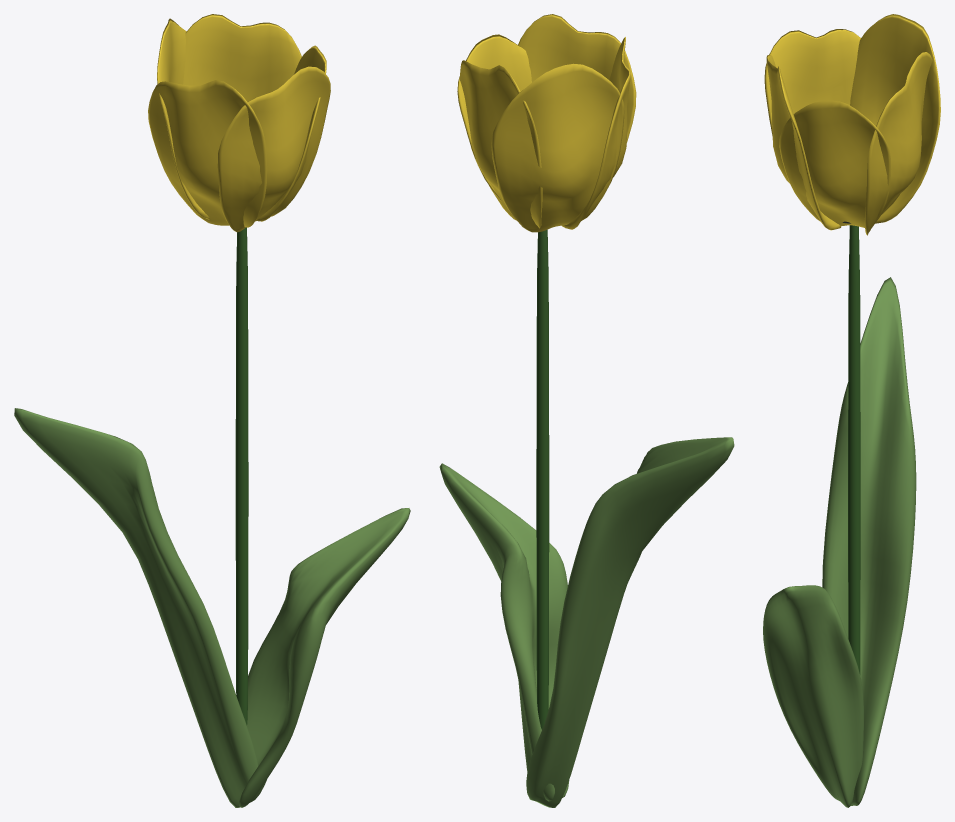
Rendered from flower8.fbx.
3 views of the same model, side by side, from view 1: azimuth 30°, elevation 25°; view 2: azimuth 150°, elevation 25°; view 3: azimuth 270°, elevation 25° (orthographic).
Parts seen in each view (by area): view 1: flower16_pPlane40, flower16_group62_pPlane43, pCylinder37; view 2: flower16_pPlane40, flower16_group62_pPlane43, pCylinder37; view 3: flower16_pPlane40, flower16_group62_pPlane43, pCylinder37.
Part boxes in pixels (bbox=[...]): flower16_pPlane40: bbox=[14, 408, 410, 807]; flower16_group62_pPlane43: bbox=[148, 14, 330, 232]; pCylinder37: bbox=[235, 227, 248, 725]; flower16_pPlane40: bbox=[439, 437, 734, 807]; flower16_group62_pPlane43: bbox=[457, 14, 636, 232]; pCylinder37: bbox=[536, 229, 549, 729]; flower16_pPlane40: bbox=[763, 277, 916, 807]; flower16_group62_pPlane43: bbox=[764, 14, 940, 235]; pCylinder37: bbox=[848, 225, 860, 674].
Size of the model in its own units: 14.39 by 30.8 by 6.48.
